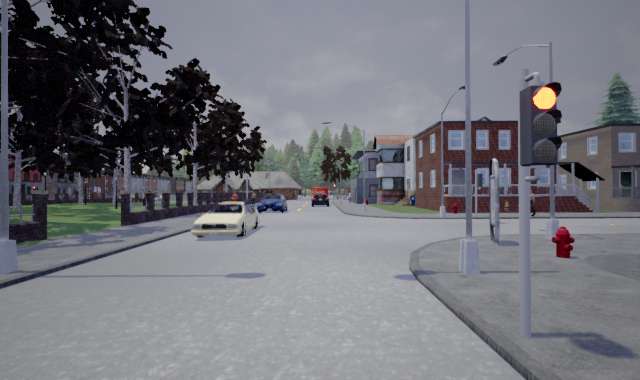pedestrian: (522, 187, 540, 216)
vehicle: (190, 200, 259, 240), (255, 193, 288, 214), (312, 194, 330, 208)
